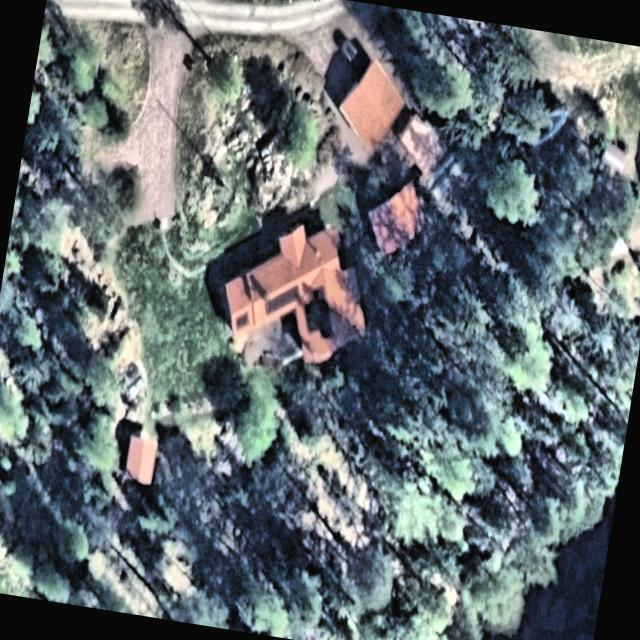roof_pv: (297, 280, 342, 346), (262, 280, 303, 321), (232, 306, 257, 336)
